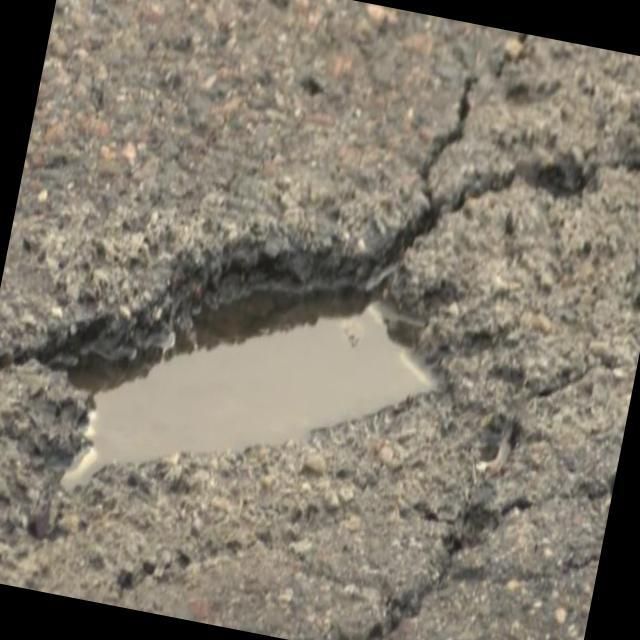Pothole: (40, 194, 460, 556)
